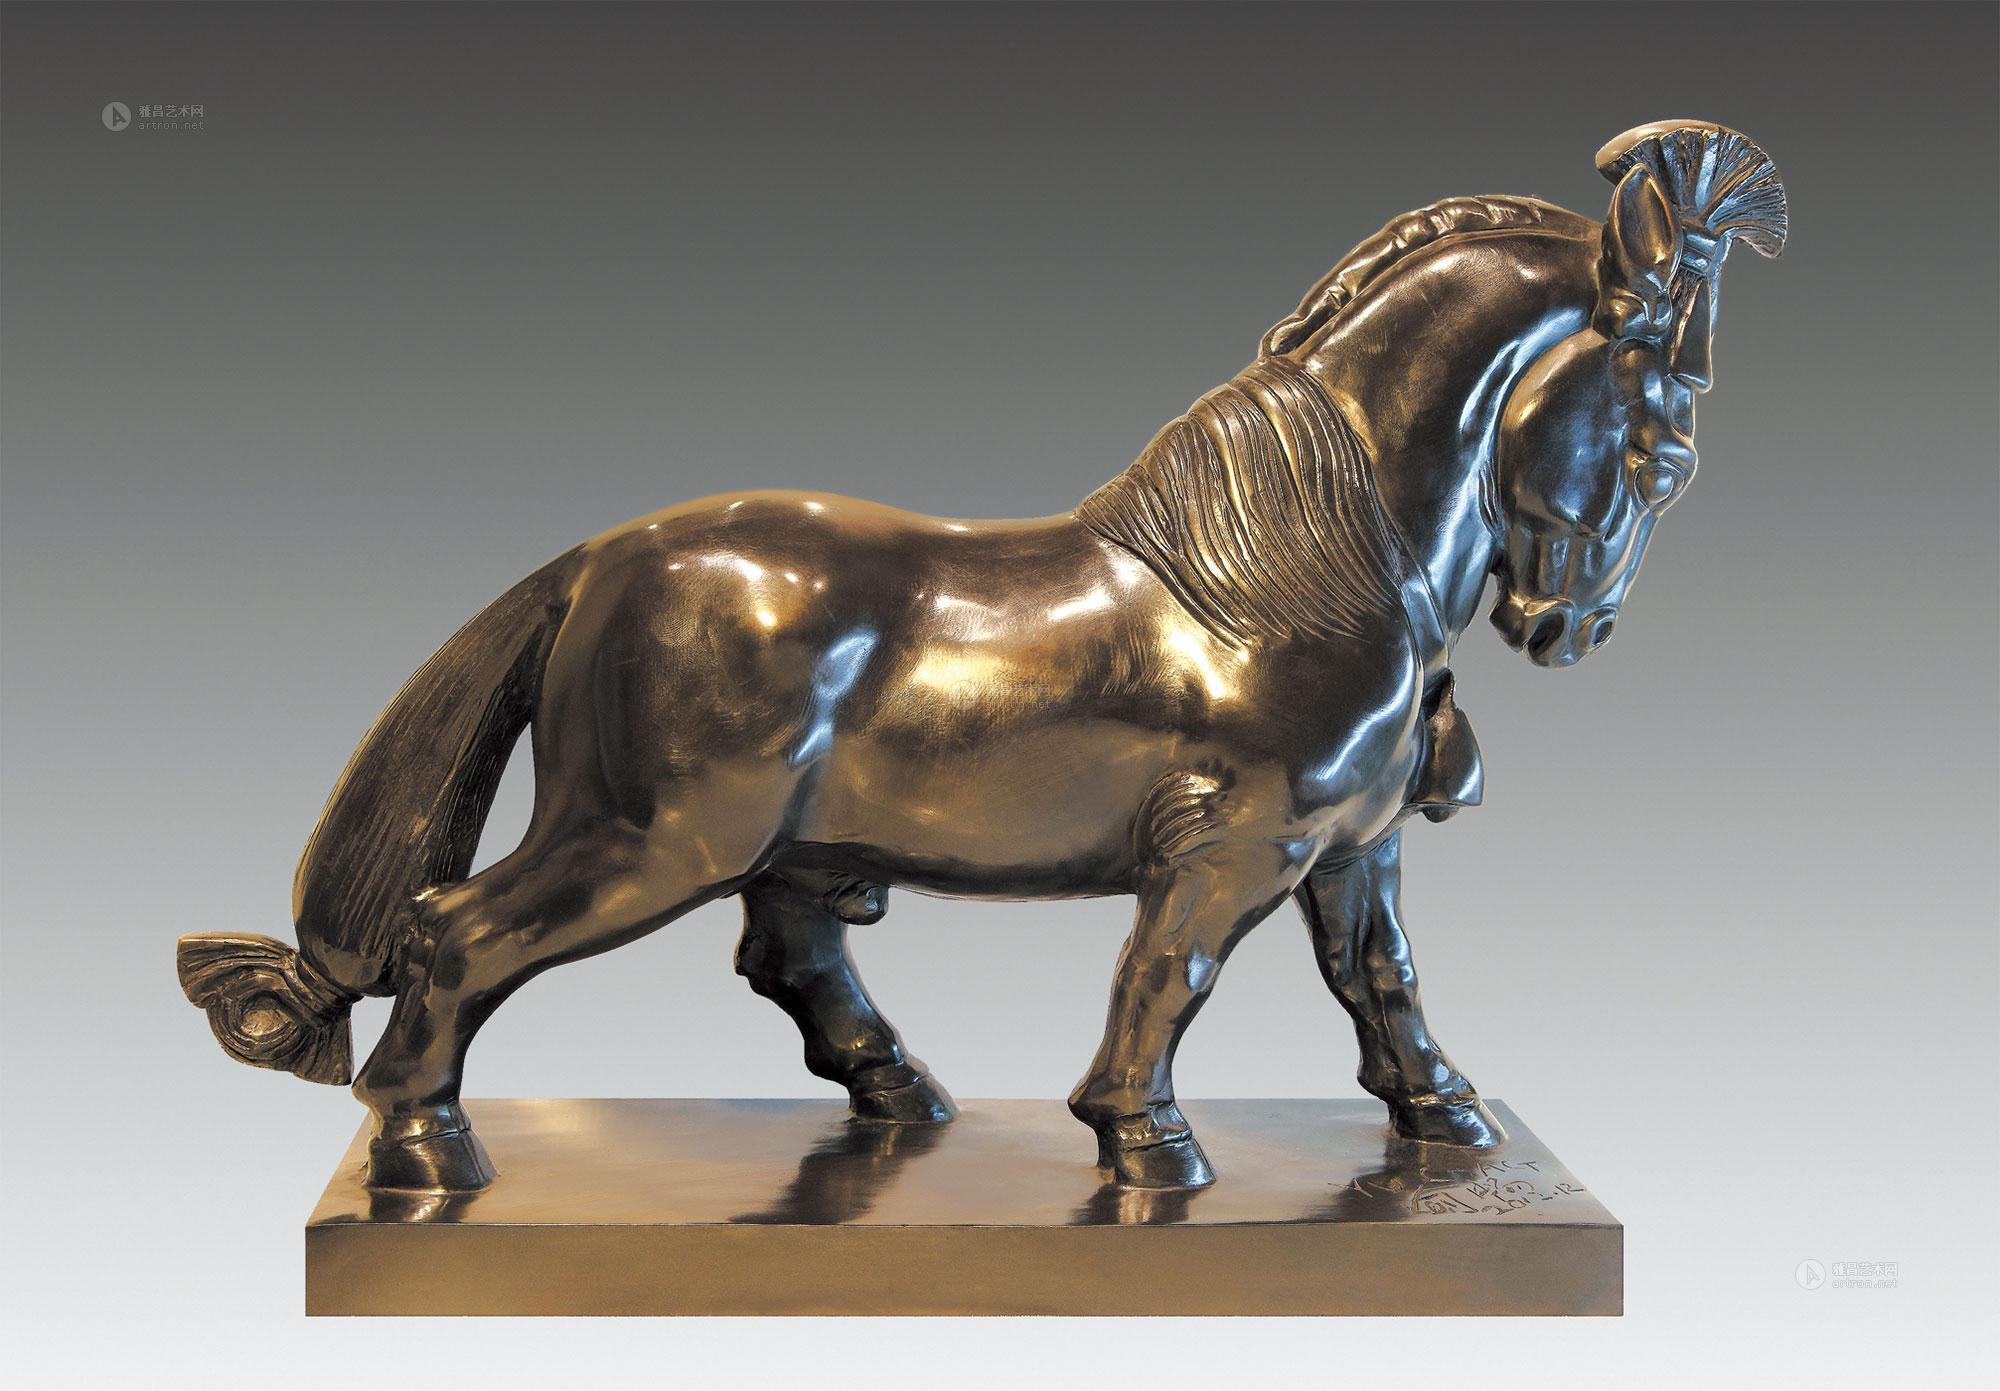background: (160, 106, 1792, 1227)
